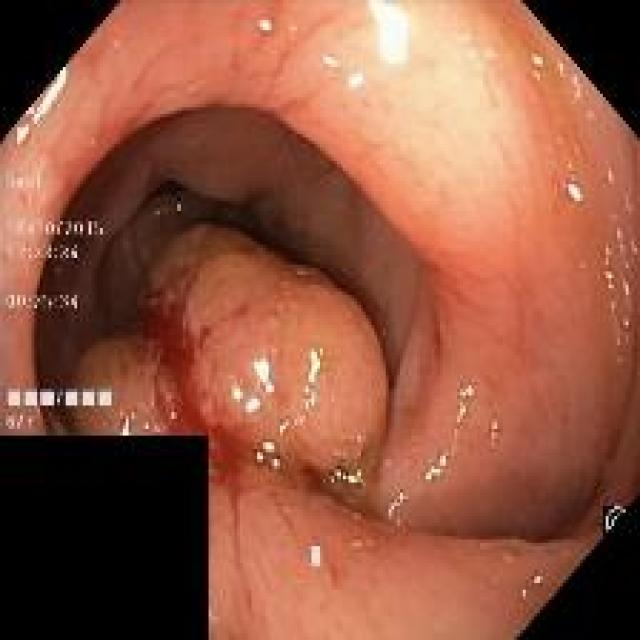Polyps: (8, 224, 389, 488)
